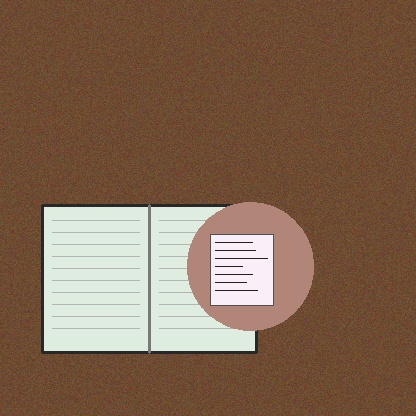book: (42, 205, 256, 352)
exam_chit: (210, 234, 273, 305)
